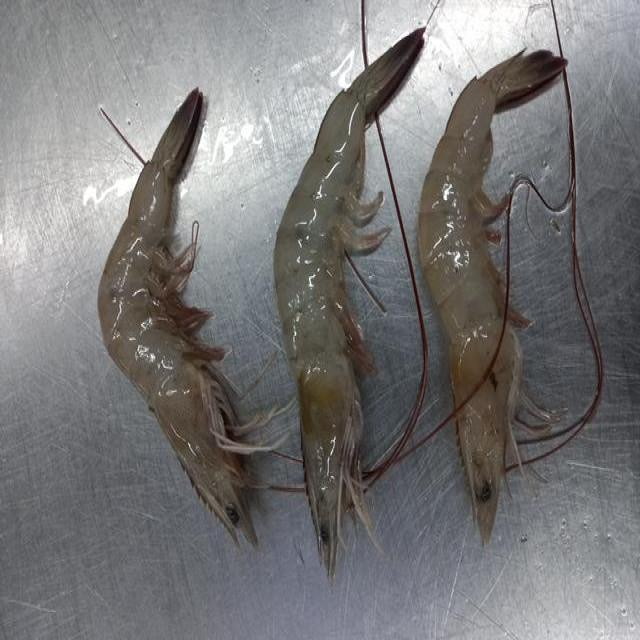shrimp: (274, 29, 424, 580), (99, 89, 258, 547), (418, 51, 565, 543)
